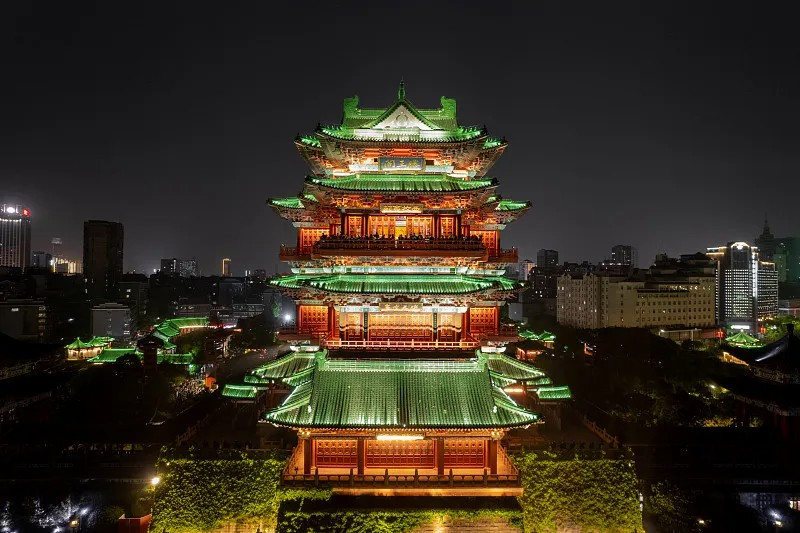Teng: (224, 73, 569, 497)
